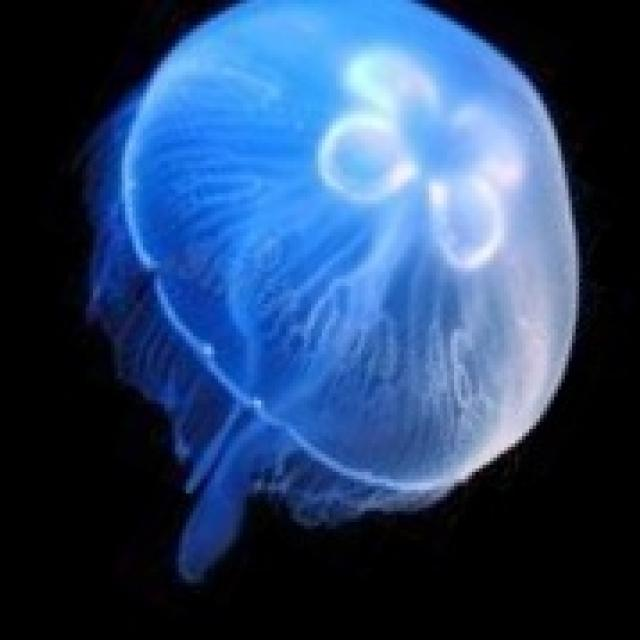Moon-jellyfish: (72, 0, 583, 587)
